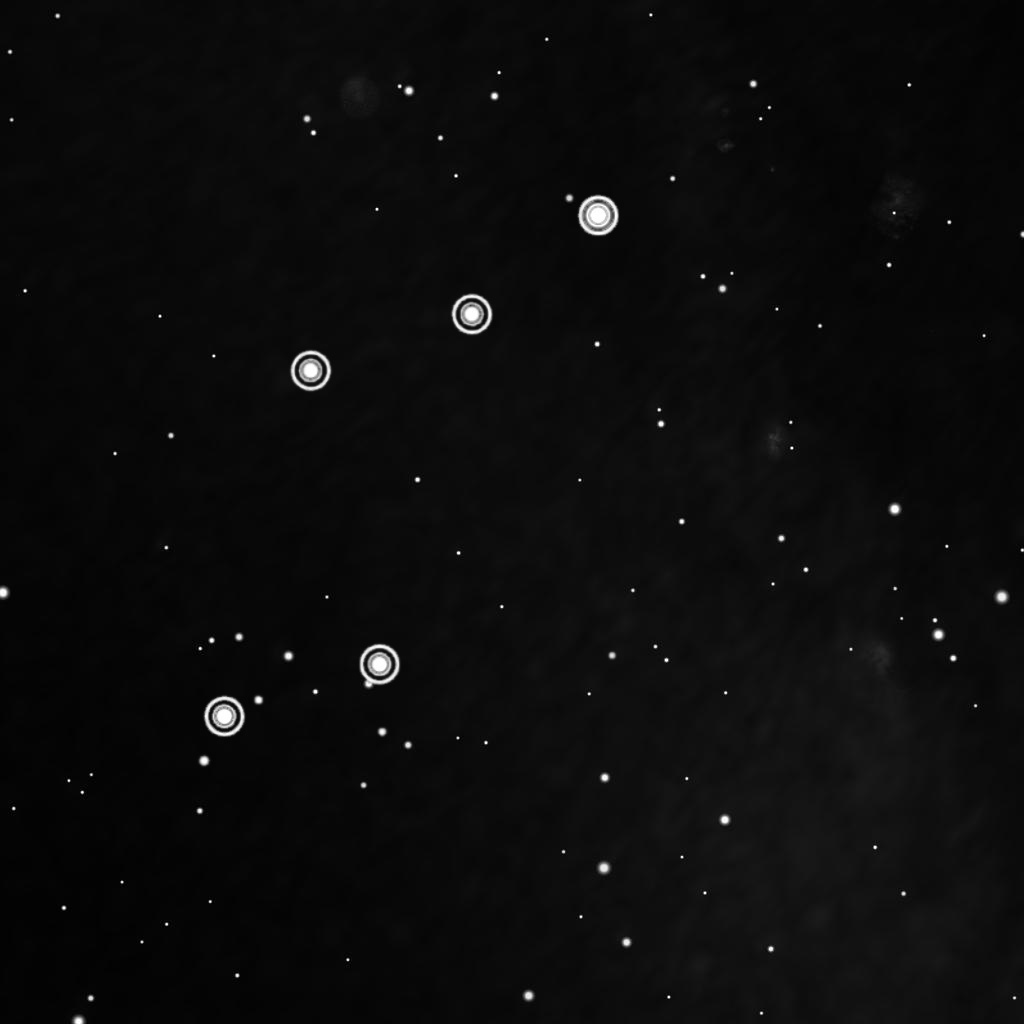lyra: (197, 179, 625, 748)
